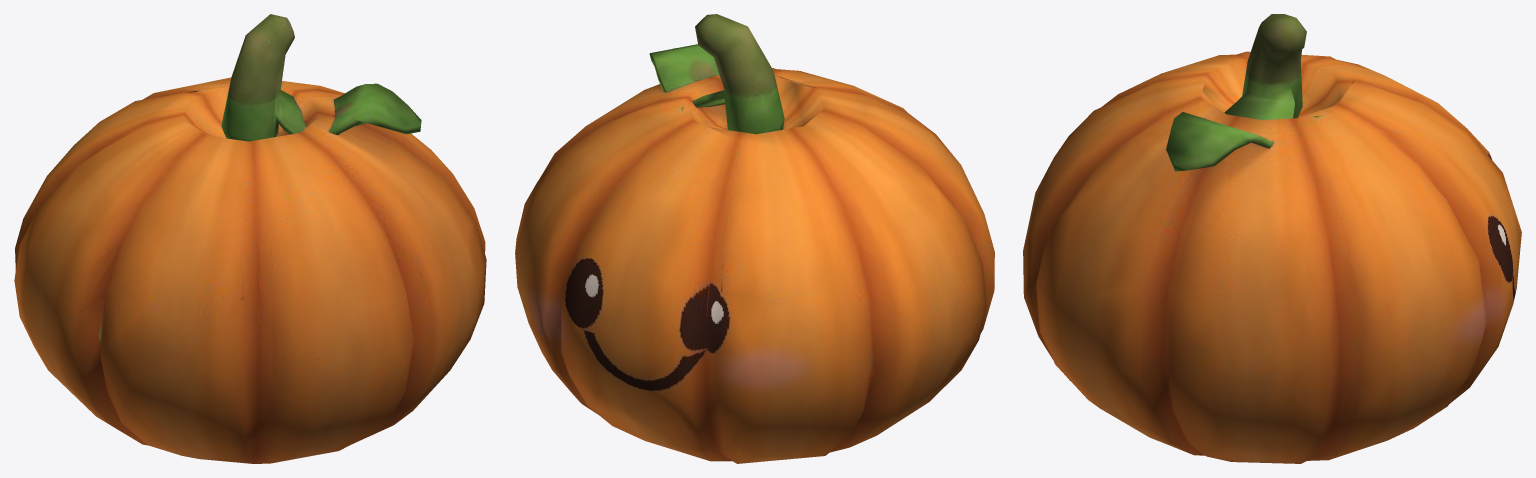
File: prop_pumpkin_toss.glb
The picture shows the model from 3 angles, left to right: view 1: azimuth 30°, elevation 25°; view 2: azimuth 150°, elevation 25°; view 3: azimuth 270°, elevation 25°; orthographic projection. The views are drawn at different scales.
Visible parts, largest first — view 1: Body, Stem; view 2: Body, Stem; view 3: Body, Stem.
Boxes of the visible parts, x1,y1,x2,y2 form: Body: (14,77,486,463); Stem: (221,14,421,141); Body: (515,68,994,463); Stem: (649,14,784,134); Body: (1023,51,1521,463); Stem: (1166,14,1306,171).
Bounding box in the file's own units: 0.4264 × 0.4071 × 0.4285.
Materials: 1 (1 with a texture image).
